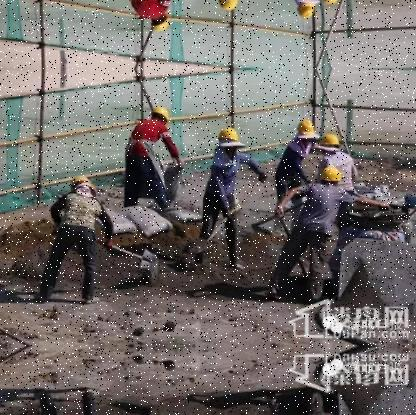helmet: (293, 116, 317, 150), (215, 125, 242, 153), (147, 103, 171, 128), (316, 131, 340, 156), (147, 9, 171, 34), (70, 176, 97, 197), (293, 0, 318, 21), (318, 165, 342, 186), (214, 0, 242, 12), (316, 0, 341, 6)
